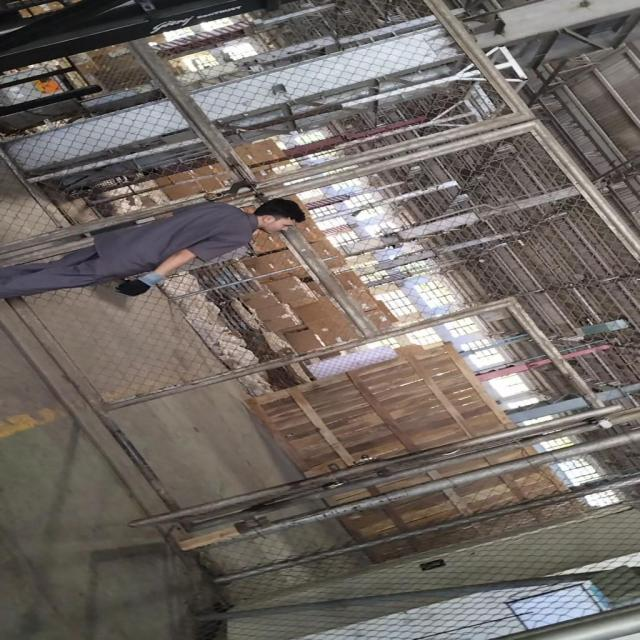Gloves-Detection: (112, 272, 164, 298)
